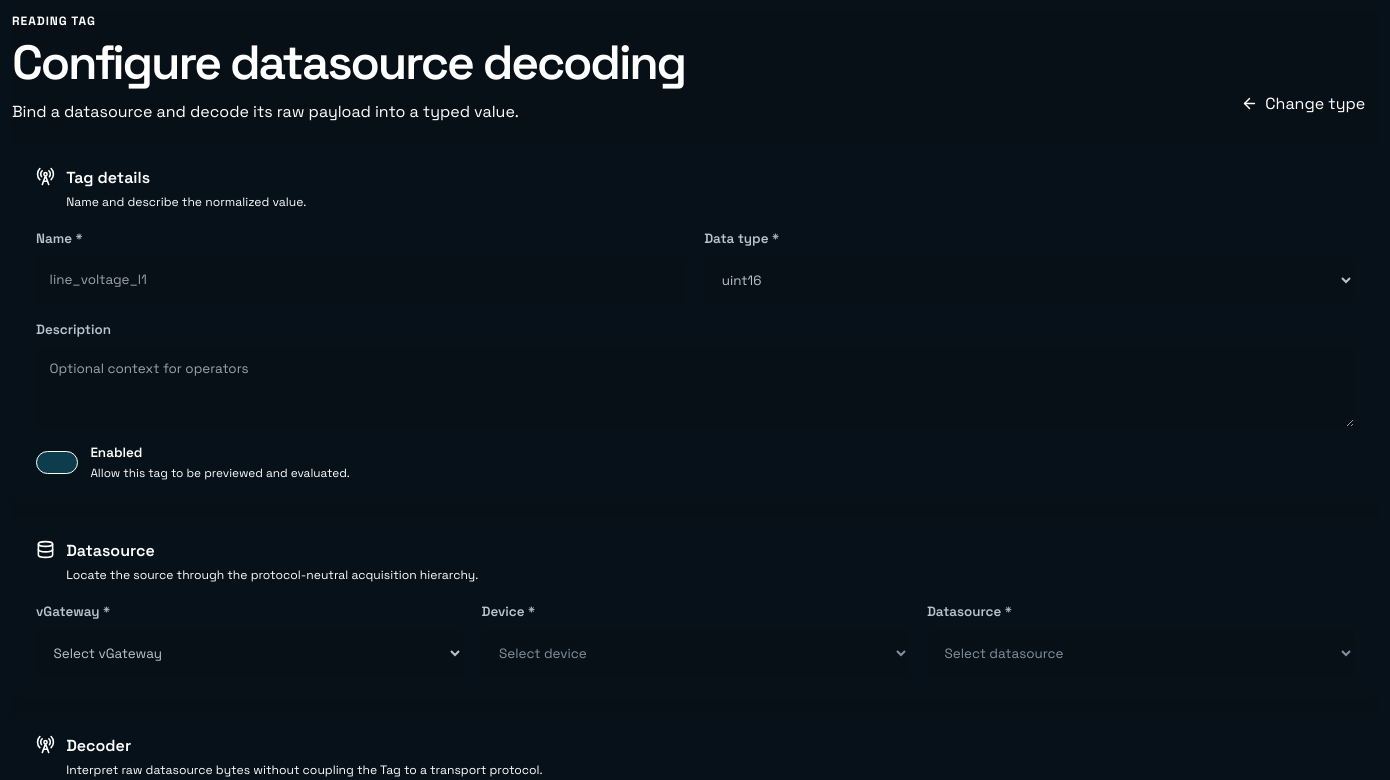
Test: ReadingTagForm › aborts stale device loads and resets downstream selections
The image size is (1390, 780).
Step 1. Select "Factory gateway · Modbus Tcp" in the dropdown labelled "vGateway" → (250, 653), box x1=36 y1=630 x2=463 y2=677
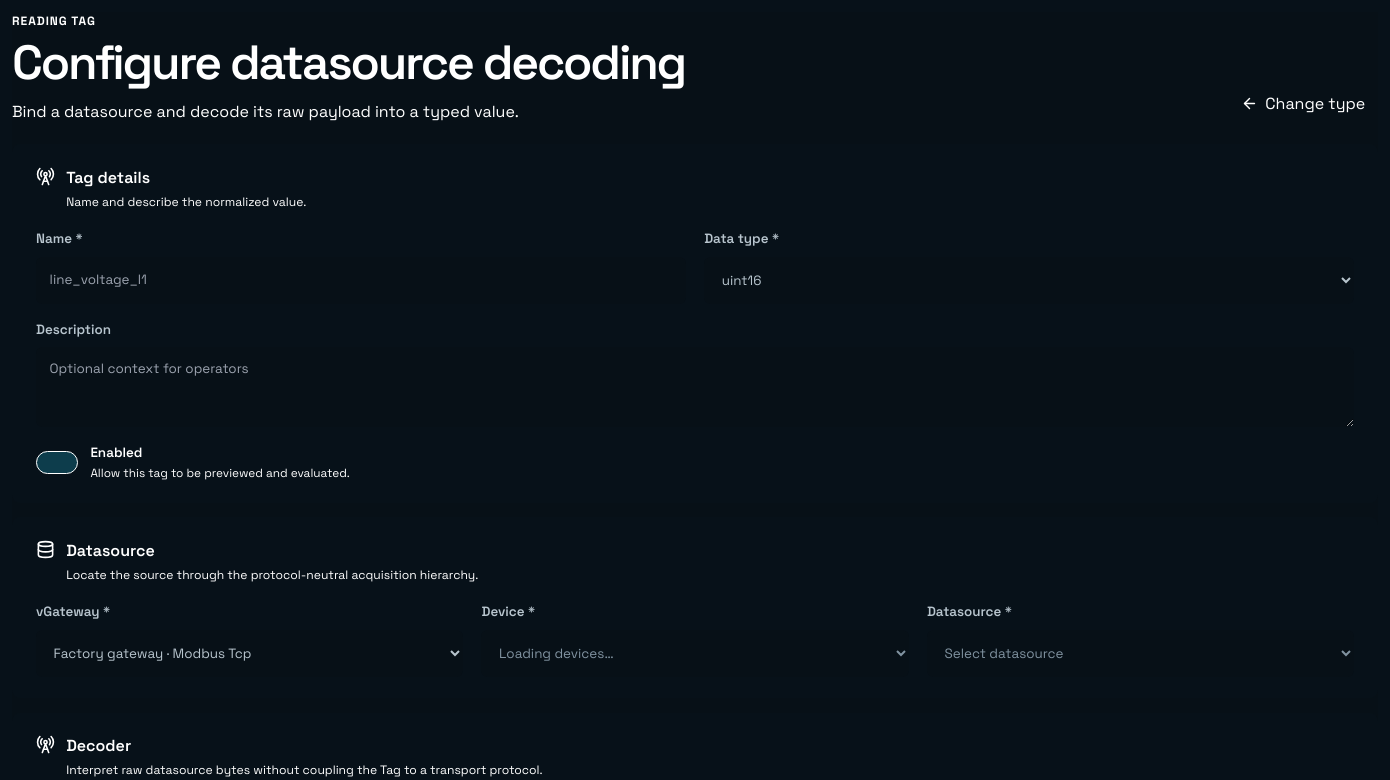
Step 2. Select "Backup gateway · Modbus Tcp" in the dropdown labelled "vGateway" → (250, 653), box x1=36 y1=630 x2=463 y2=677
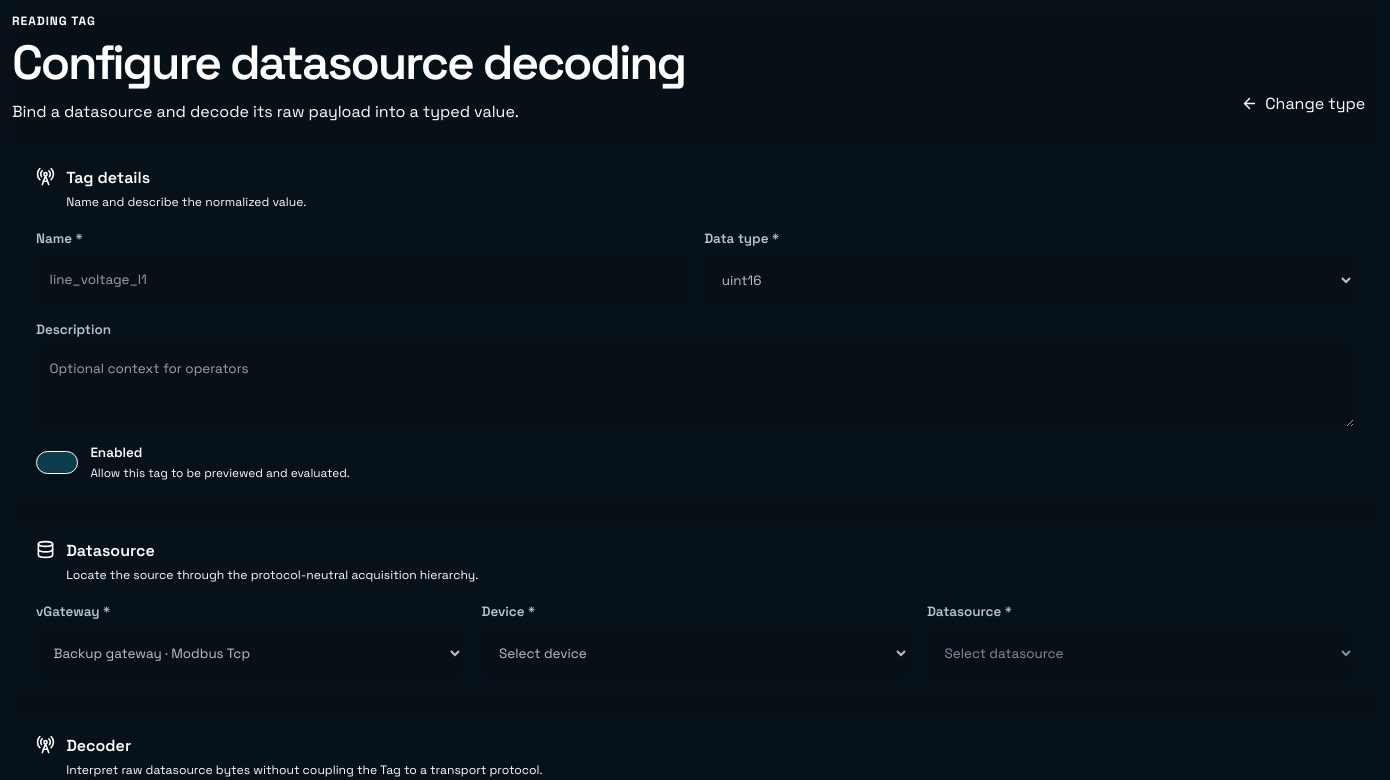
Expected: the dropdown labelled "Datasource" is disabled, x1=927 y1=630 x2=1354 y2=677
Expected: the dropdown labelled "Device" shows "Select device", x1=482 y1=630 x2=909 y2=677
